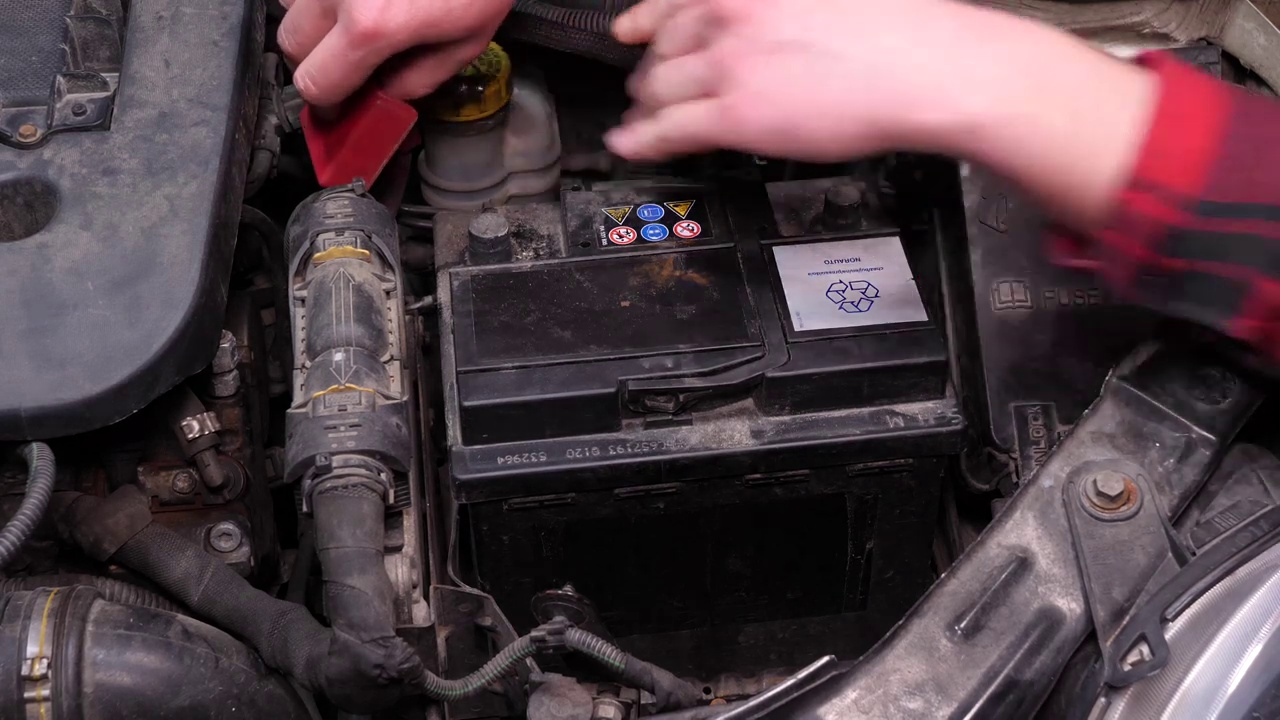battery: (436, 180, 942, 406)
